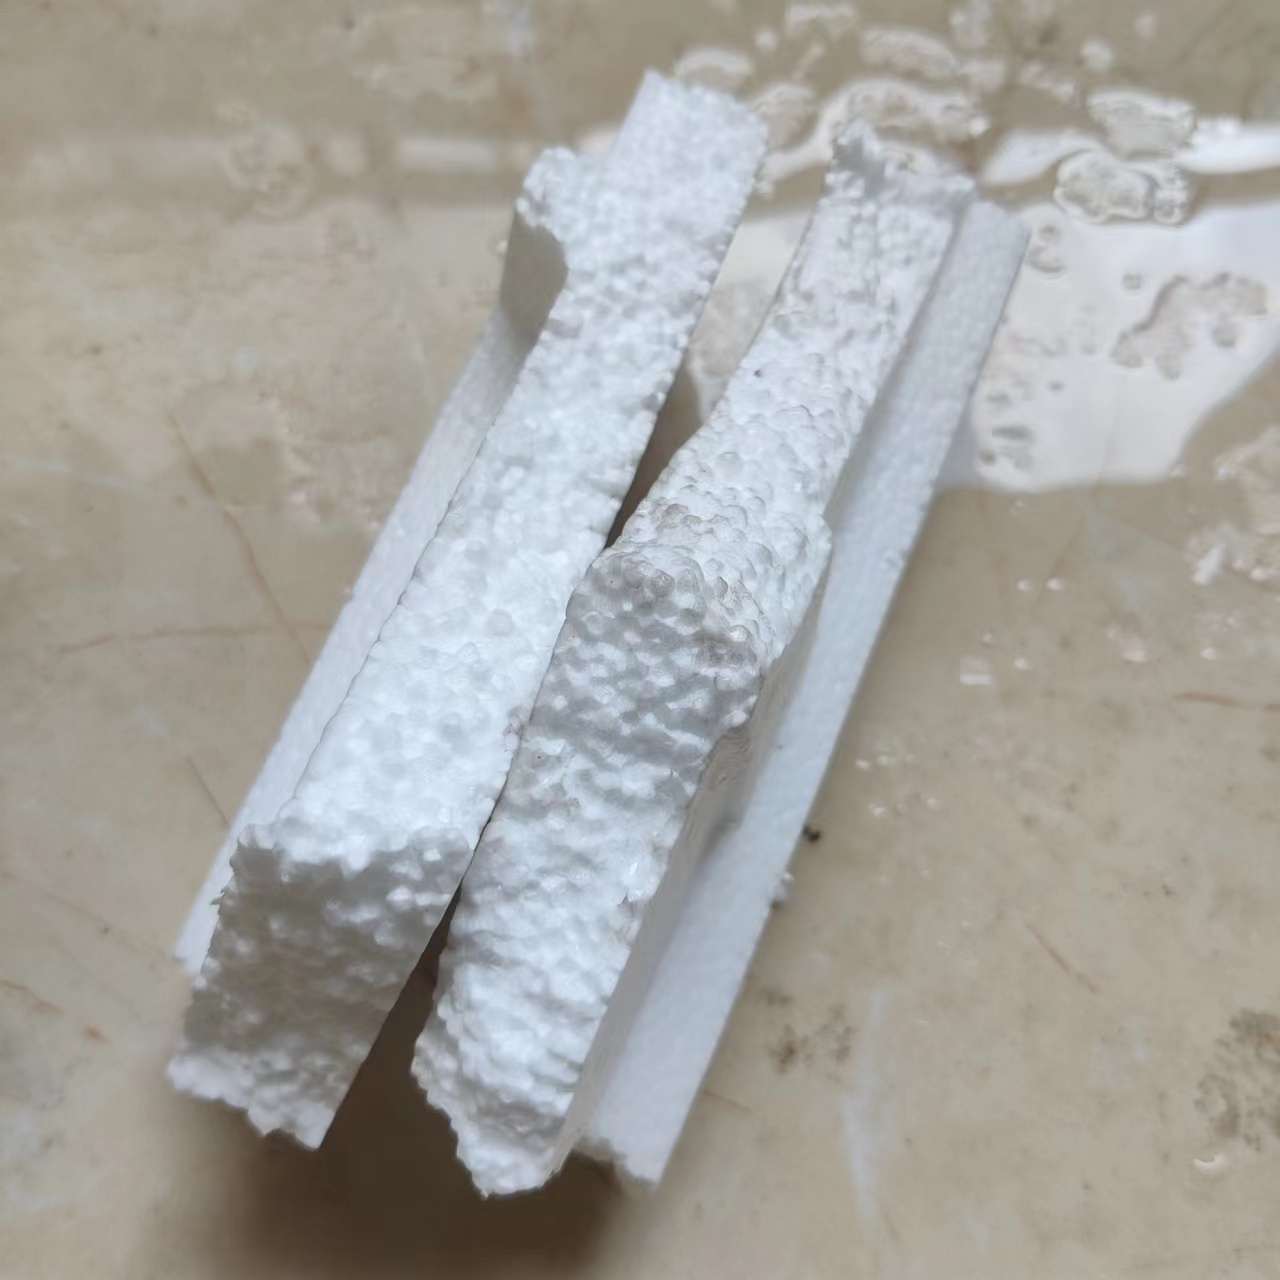5/可回收垃圾/泡沫: (411, 116, 1029, 1196), (165, 70, 768, 1151)
